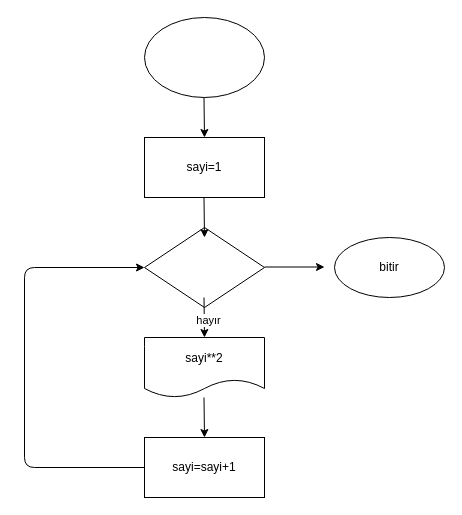
The diagram is 462 pixels wide and 515 high, and some of its shapes have lost their labels. The centre of each missing label's shape, as x and y in pixels:
"basla" goes at (x=204, y=57).
"sayi>25" goes at (x=204, y=267).
